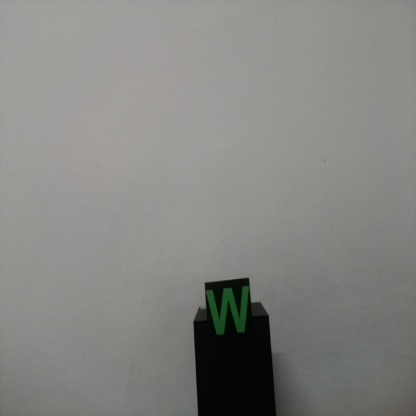id_12: (204, 281, 251, 345)
